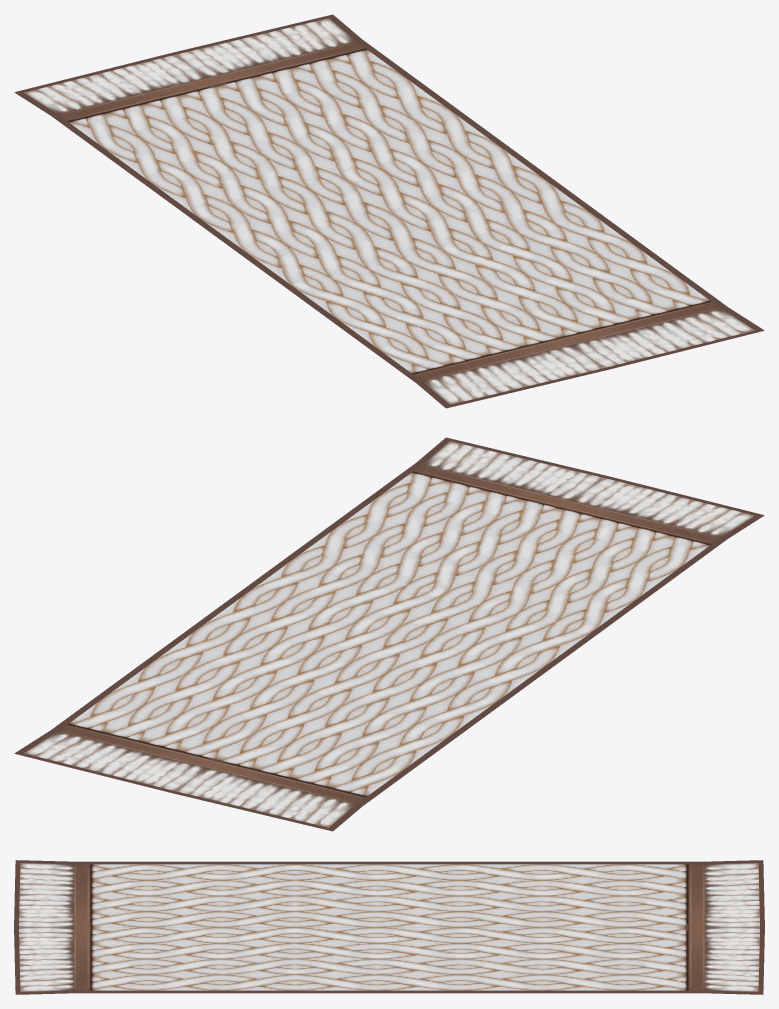
The model's file is my_sunshineresort_01_carpet_04.glb.
3 views of the same model, one above another, from view 1: azimuth 30°, elevation 25°; view 2: azimuth 150°, elevation 25°; view 3: azimuth 270°, elevation 25° (orthographic). The views are drawn at different scales.
Visible parts, largest first — view 1: my_sunshineresort_01_carpet_04; view 2: my_sunshineresort_01_carpet_04; view 3: my_sunshineresort_01_carpet_04.
Boxes of the visible parts, x1,y1,x2,y2 form: my_sunshineresort_01_carpet_04: (14,14,764,408); my_sunshineresort_01_carpet_04: (14,437,764,831); my_sunshineresort_01_carpet_04: (14,860,764,994).
Size of the model in its own units: 0.00451 by 0 by 0.0106.
Materials: 1 (1 with a texture image).
